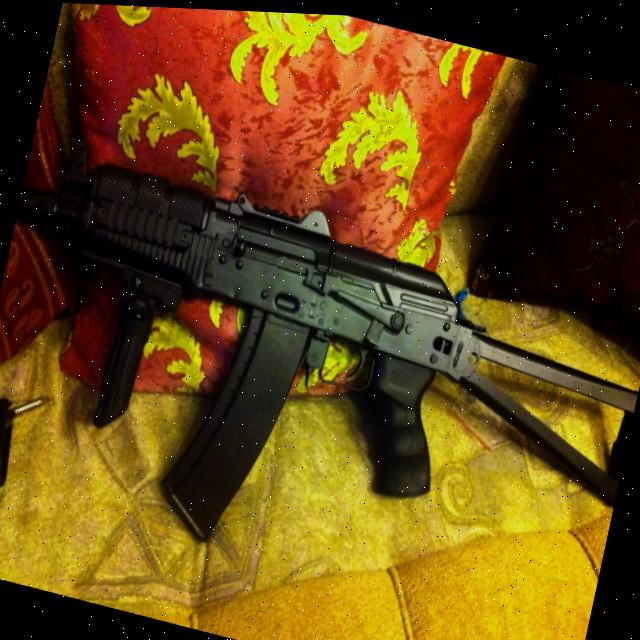firearm: (0, 120, 640, 639)
